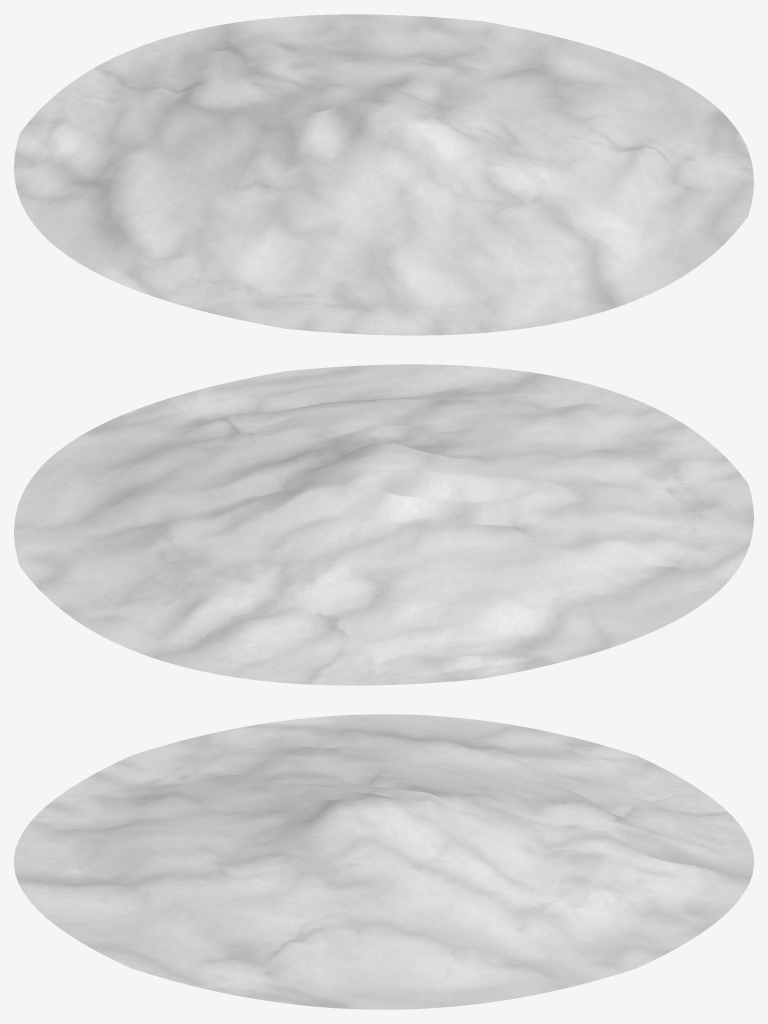
Rendered from Mount02.FBX.
The picture shows the model from 3 angles, top to bottom: view 1: azimuth 30°, elevation 25°; view 2: azimuth 150°, elevation 25°; view 3: azimuth 270°, elevation 25°; orthographic projection. The views are drawn at different scales.
Parts seen in each view (by area): view 1: Mount01; view 2: Mount01; view 3: Mount01.
Part boxes in pixels (bbox=[...]): Mount01: bbox=[14, 14, 753, 335]; Mount01: bbox=[14, 364, 753, 685]; Mount01: bbox=[14, 714, 753, 1009].
Bounding box in the file's own units: 358 × 32.82 × 379.
